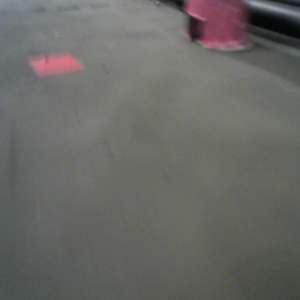right: (182, 1, 255, 52)
